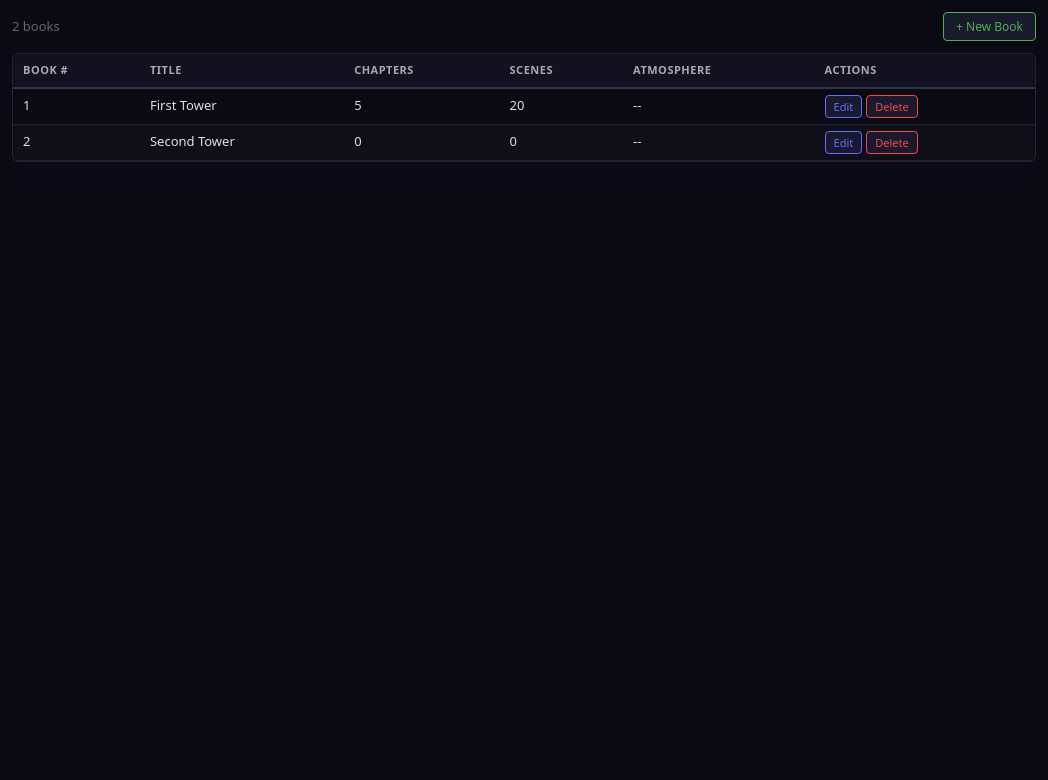
Scenario: BookEditor › clicking edit opens detail panel with book data
Check: the text "First Tower" is shown, box [140,88,344,124]
Click the button "Edit" in the row of "First Tower".
click(843, 106)  # box [824,94,862,118]
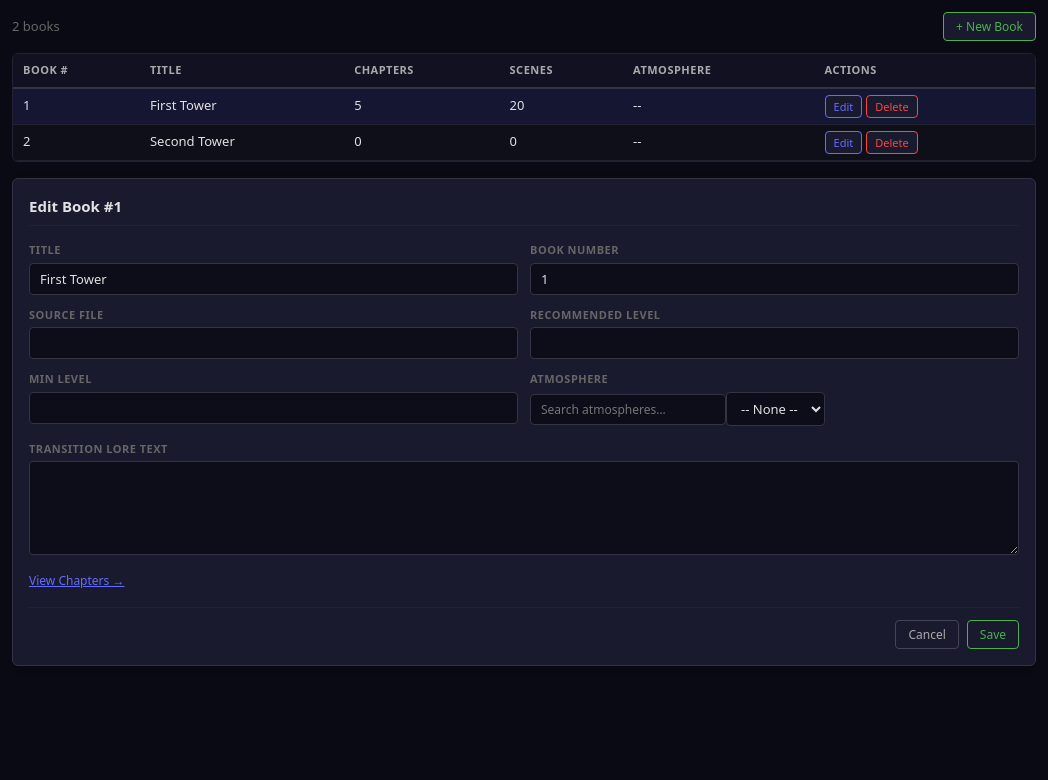
Check: the heading "Edit Book #1" is shown, box [29,194,1019,226]
Check: the 1st field showing "First Tower" is shown, box [29,262,518,294]
Check: the button "Save" is shown, box [967,620,1019,649]
